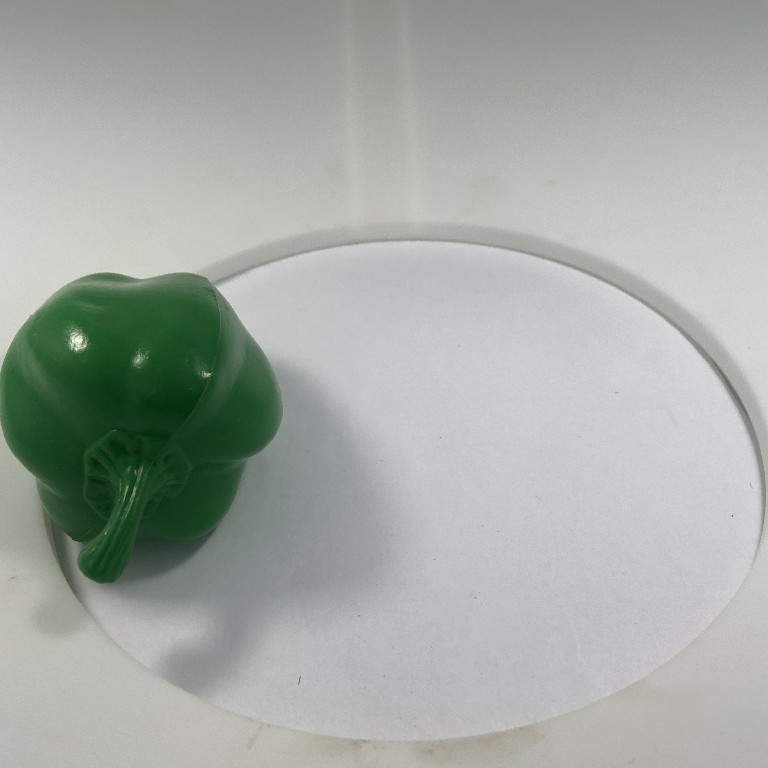fruit_pepper: (1, 265, 288, 589)
